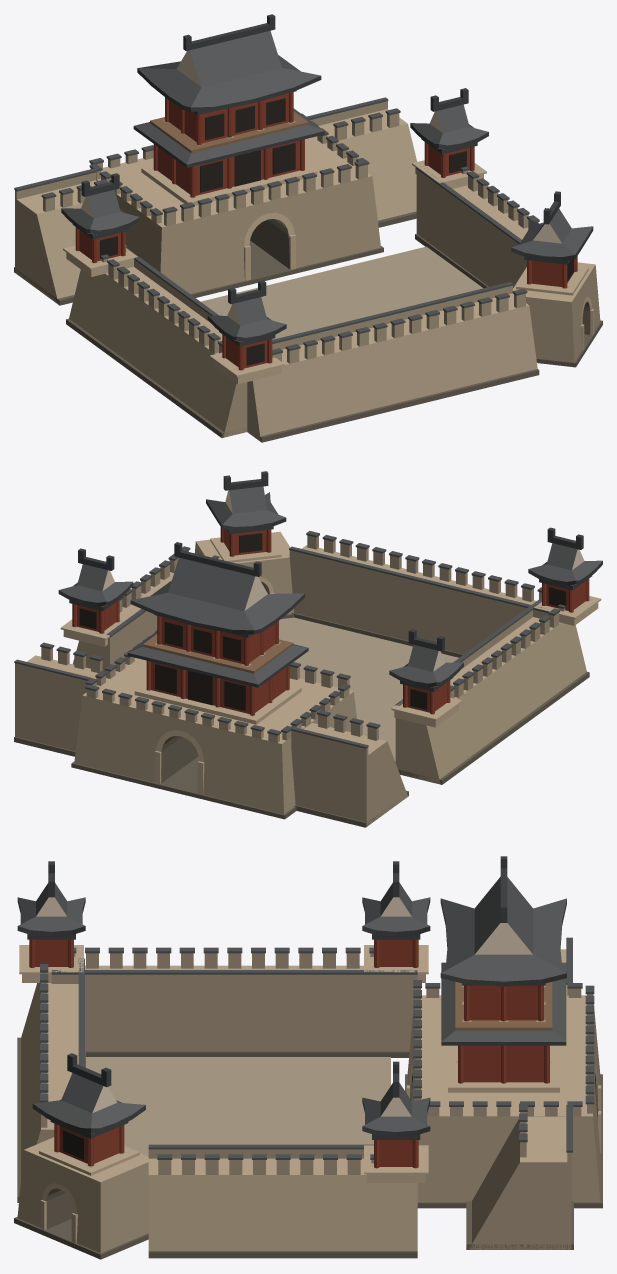
The model's file is J01_far.glb.
3 views of the same model, one above another, from view 1: azimuth 30°, elevation 25°; view 2: azimuth 150°, elevation 25°; view 3: azimuth 270°, elevation 25° (orthographic). The views are drawn at different scales.
Visible parts, largest first — view 1: J01_far; view 2: J01_far; view 3: J01_far.
Boxes of the visible parts, x1=… form: J01_far: x1=14, y1=14, x2=602, y2=442; J01_far: x1=14, y1=471, x2=602, y2=827; J01_far: x1=14, y1=856, x2=602, y2=1259.
Size of the model in its own units: 50.7 by 26.82 by 54.7.
